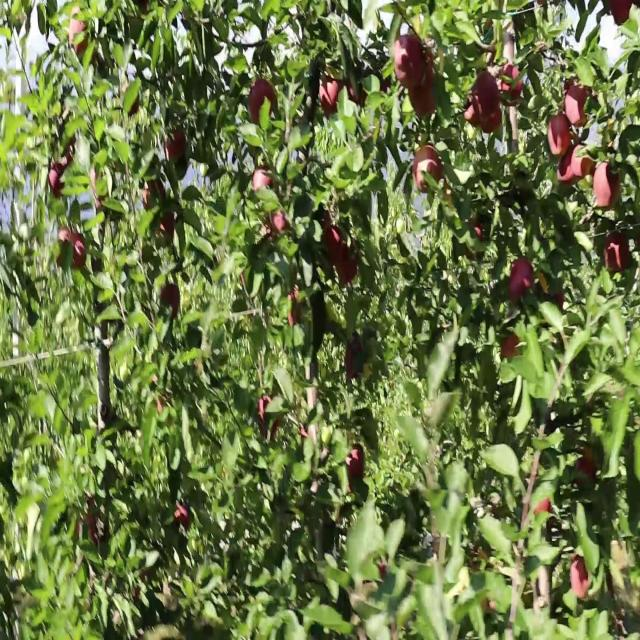apple: (408, 63, 438, 121), (396, 35, 427, 91), (248, 78, 279, 128), (412, 149, 444, 196), (564, 78, 592, 128), (56, 227, 88, 270), (508, 255, 536, 304), (596, 163, 623, 212), (604, 234, 631, 277), (548, 113, 572, 160), (48, 156, 73, 199), (476, 71, 501, 112), (500, 63, 524, 103), (260, 398, 282, 441), (336, 248, 360, 286), (572, 142, 596, 180), (572, 554, 592, 599), (480, 99, 504, 135), (320, 78, 341, 119), (164, 127, 187, 164), (540, 277, 565, 311), (76, 504, 97, 544), (324, 227, 346, 263), (348, 341, 367, 382), (608, 0, 634, 28), (348, 447, 365, 489), (464, 227, 485, 261), (556, 156, 578, 188), (524, 497, 553, 521), (160, 284, 180, 318), (288, 284, 303, 327), (252, 170, 276, 196), (268, 213, 291, 240), (72, 21, 89, 57), (500, 334, 521, 363), (348, 78, 368, 108), (144, 184, 165, 212), (576, 455, 597, 482), (464, 99, 480, 128), (532, 497, 553, 519), (176, 504, 192, 532), (136, 568, 149, 601), (160, 213, 176, 238), (300, 426, 319, 441), (320, 213, 334, 233), (380, 561, 388, 583)
